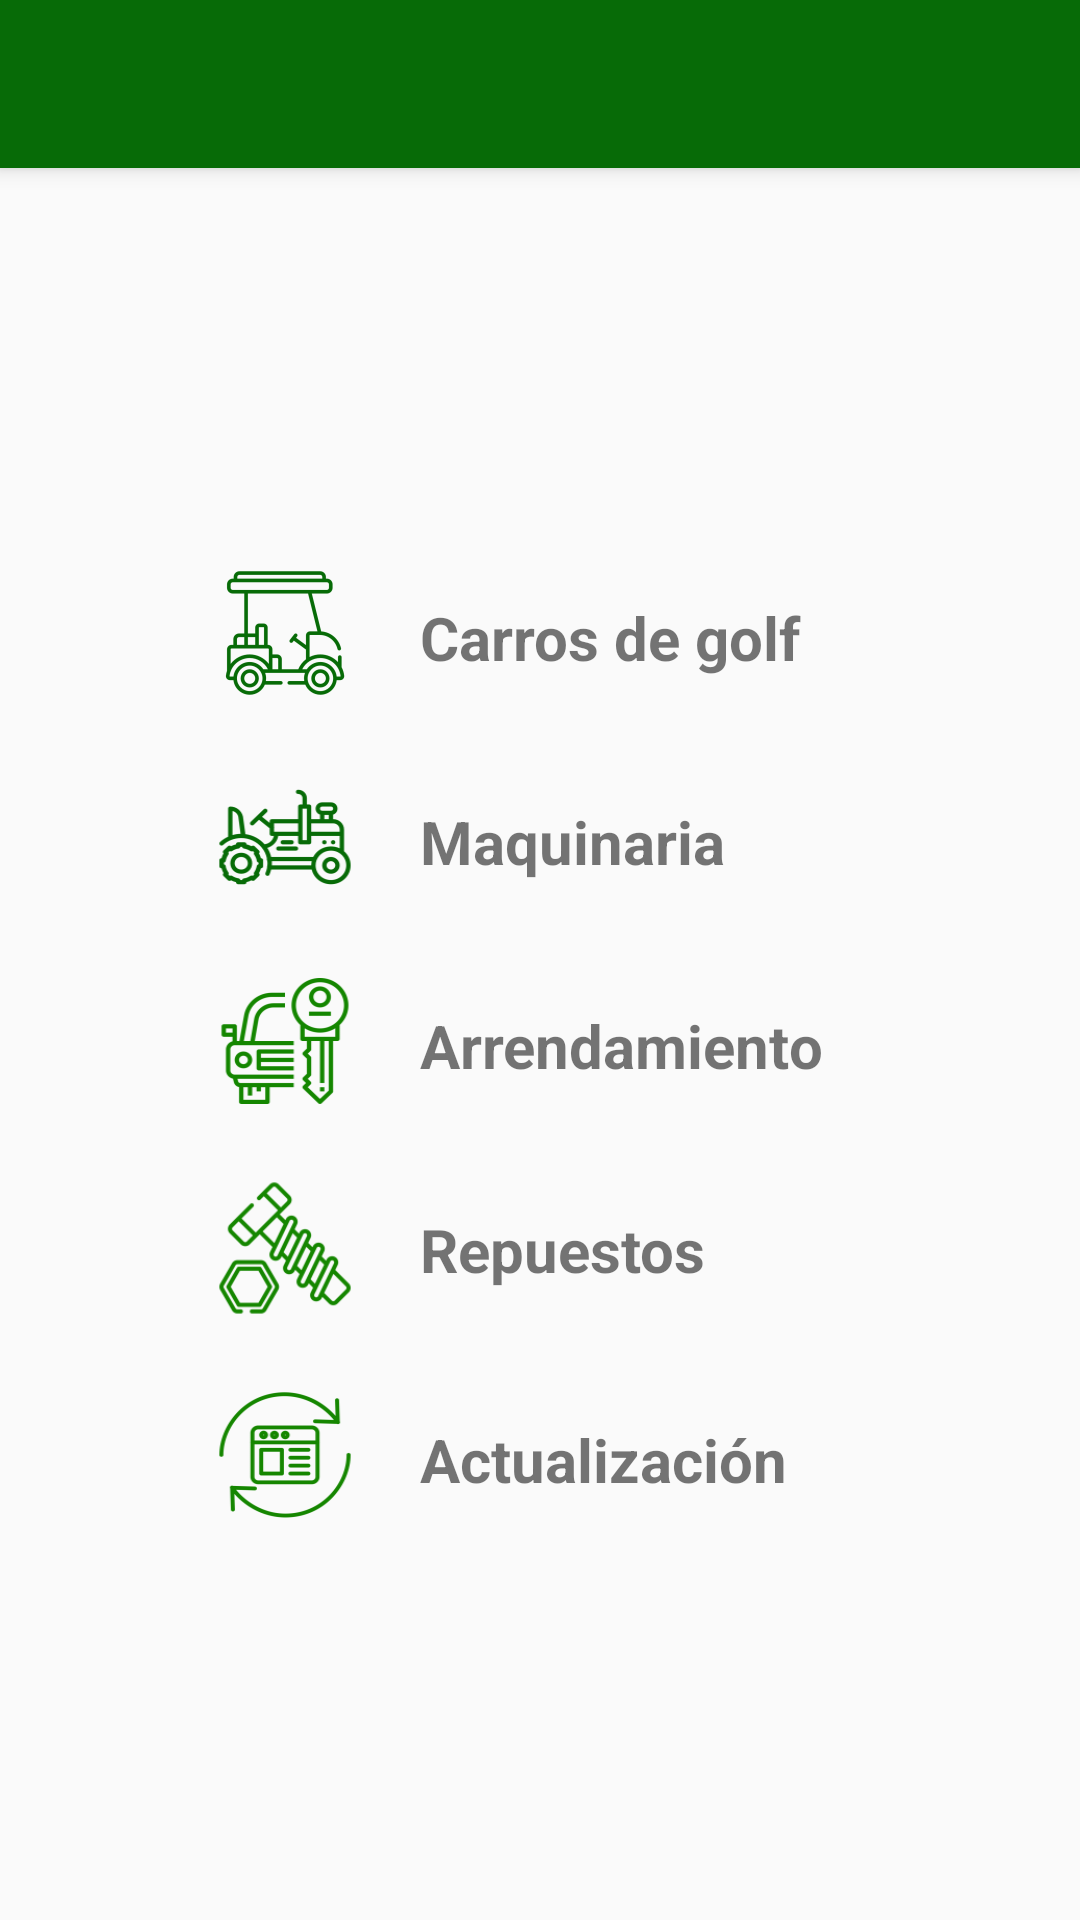

Named icons in this screenshot (1080*1920) and their centers, (x=x, y=y):
actualizar: (x=285, y=1455)
carro golf: (x=285, y=633)
maquinas: (x=285, y=837)
